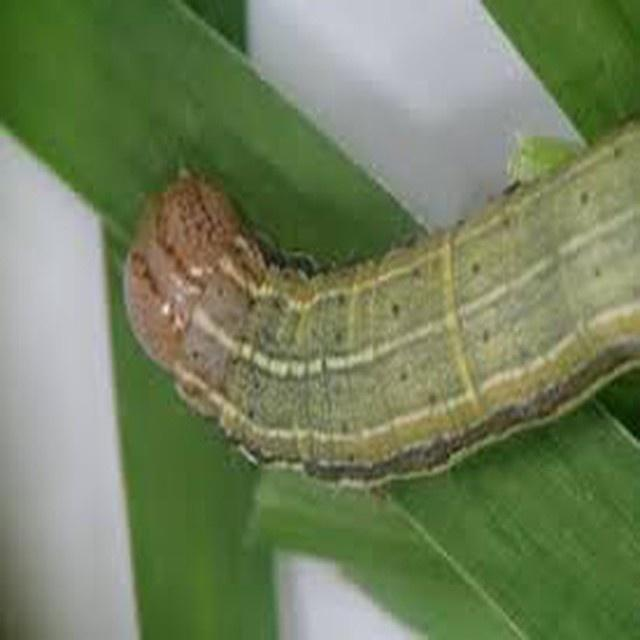gusano_cogollero: (127, 168, 635, 488)
